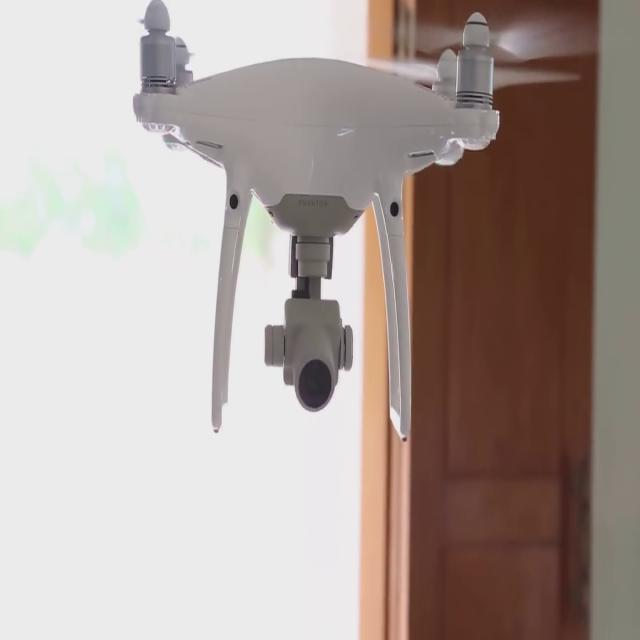drone: (124, 1, 514, 272)
